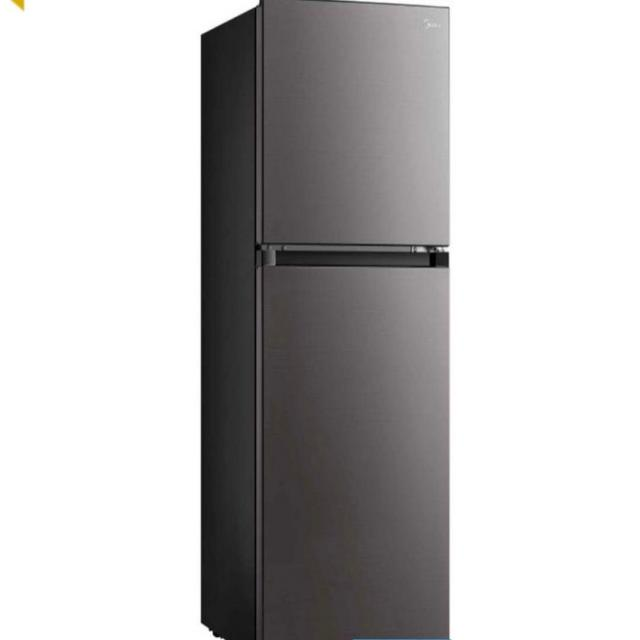refrigerator: (251, 0, 453, 640)
